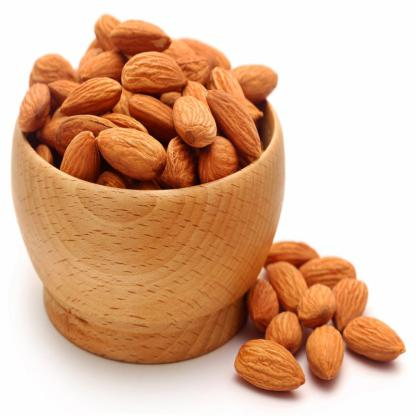almond: (234, 338, 305, 396), (96, 126, 167, 183), (206, 90, 262, 160), (118, 51, 188, 96), (343, 315, 404, 366), (58, 75, 122, 117), (169, 94, 218, 148), (112, 18, 172, 58), (264, 257, 307, 312), (306, 325, 345, 383), (299, 254, 356, 287), (331, 278, 370, 326), (62, 134, 100, 182), (297, 283, 336, 324), (247, 277, 278, 328), (19, 83, 50, 131), (268, 312, 302, 355), (205, 79, 205, 80)
